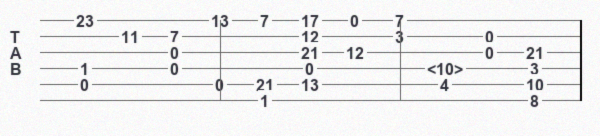0: (80, 76, 93, 92), (170, 60, 183, 76), (170, 44, 183, 60), (215, 76, 228, 92), (305, 60, 318, 76), (350, 12, 363, 28), (485, 28, 498, 44), (485, 44, 498, 60)
1: (80, 60, 93, 76), (260, 92, 273, 108)
10: (526, 76, 548, 92)
11: (121, 28, 143, 44)
12: (301, 28, 323, 44), (346, 44, 368, 60)
13: (211, 12, 233, 28), (301, 76, 323, 92)
17: (301, 12, 323, 28)
21: (256, 76, 278, 92), (301, 44, 323, 60), (526, 44, 548, 60)
23: (76, 12, 98, 28)
3: (395, 28, 408, 44), (530, 60, 543, 76)
4: (440, 76, 453, 92)
7: (170, 28, 183, 44), (260, 12, 273, 28), (395, 12, 408, 28)
8: (530, 92, 543, 108)
harmonic: (427, 60, 467, 76)
